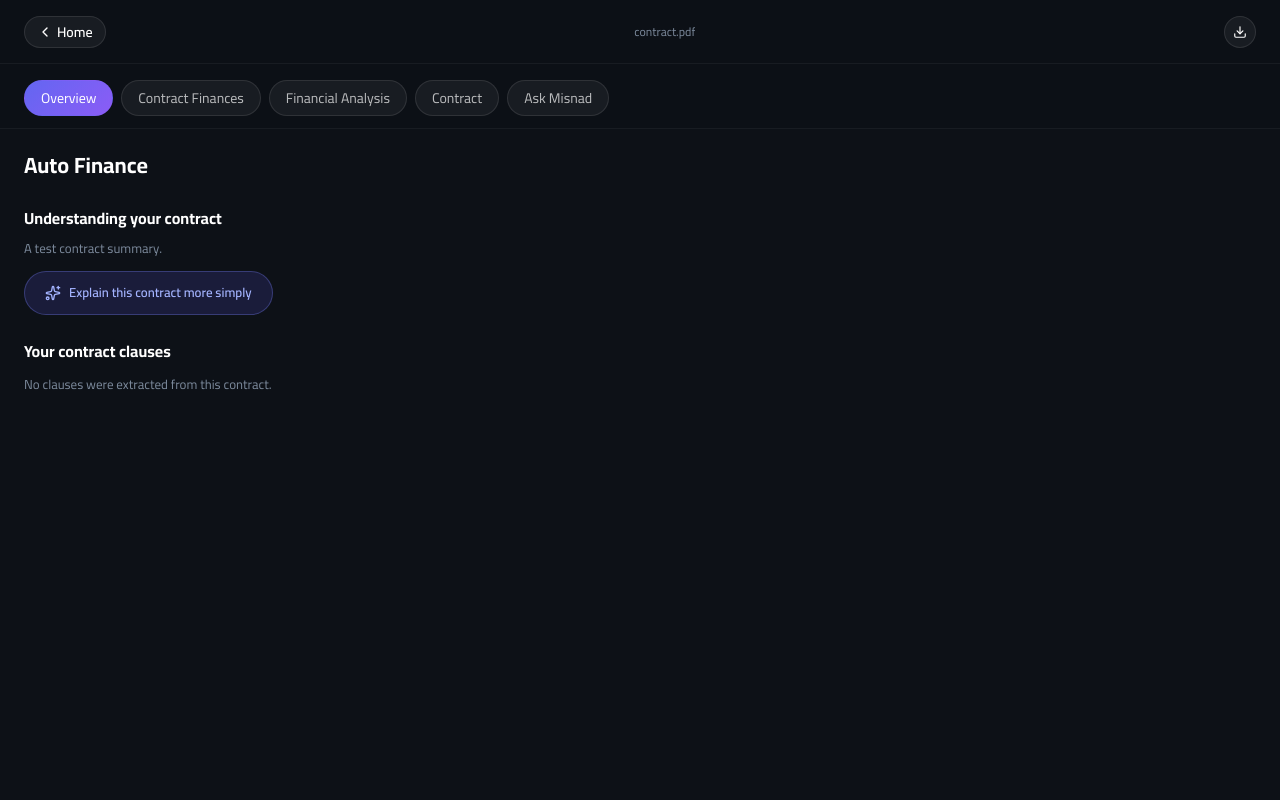
Personalized Analysis session state (survives tab switches, resets on new analysis) › shows a retry action on failure (including a timeout), and retrying can succeed
Click the tab with test id "tab-trigger-financialAnalysis" at point(338, 98), box 269,80 -> 407,116
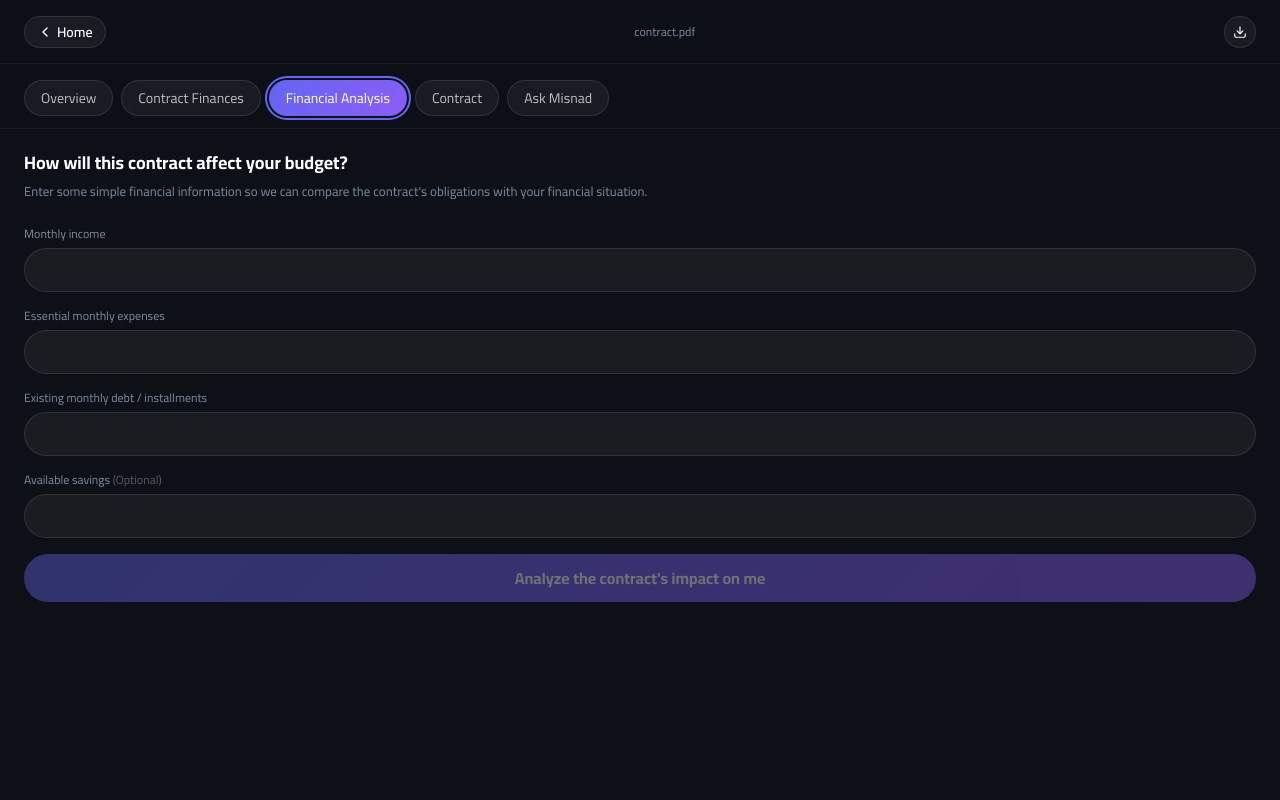
Type "10000" into the number field with test id "input-monthly-income" at point(640, 270), box 24,248 -> 1256,292
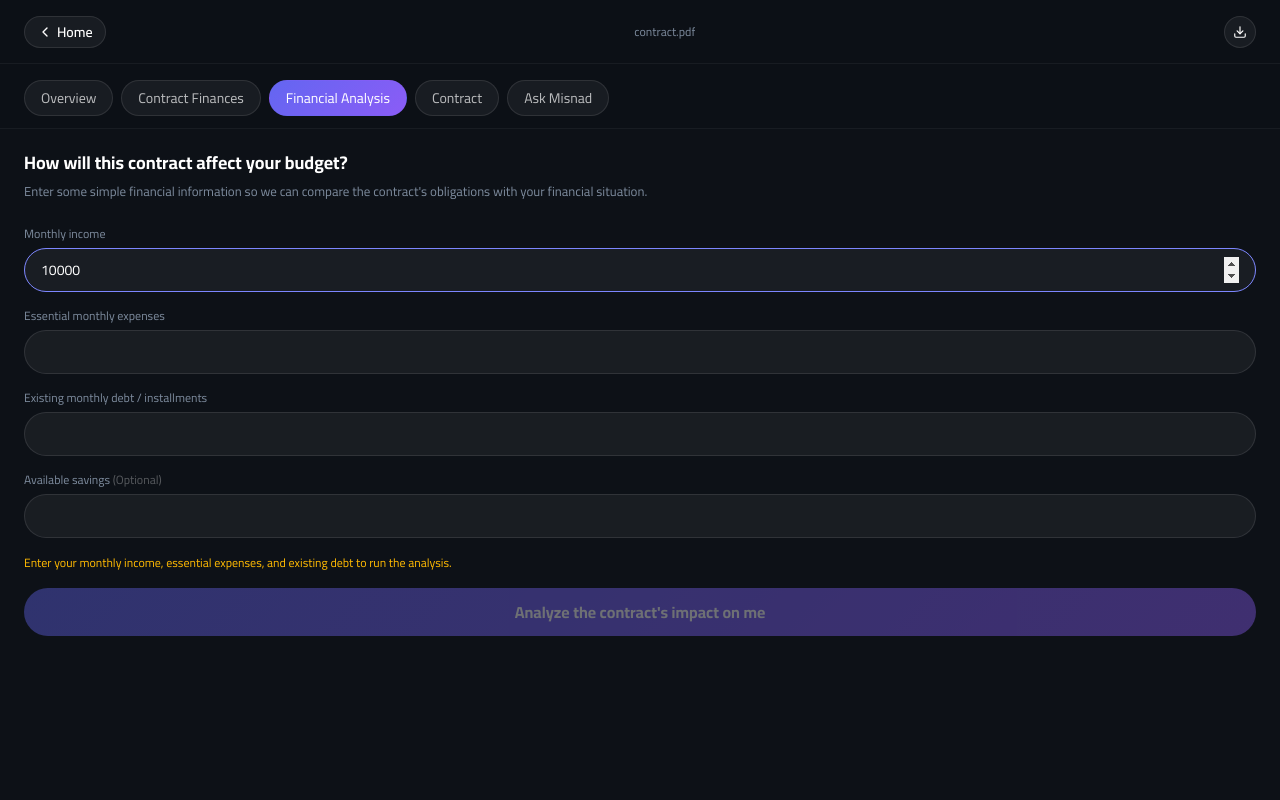
Type "3000" into the number field with test id "input-essential-expenses" at point(640, 352), box 24,330 -> 1256,374
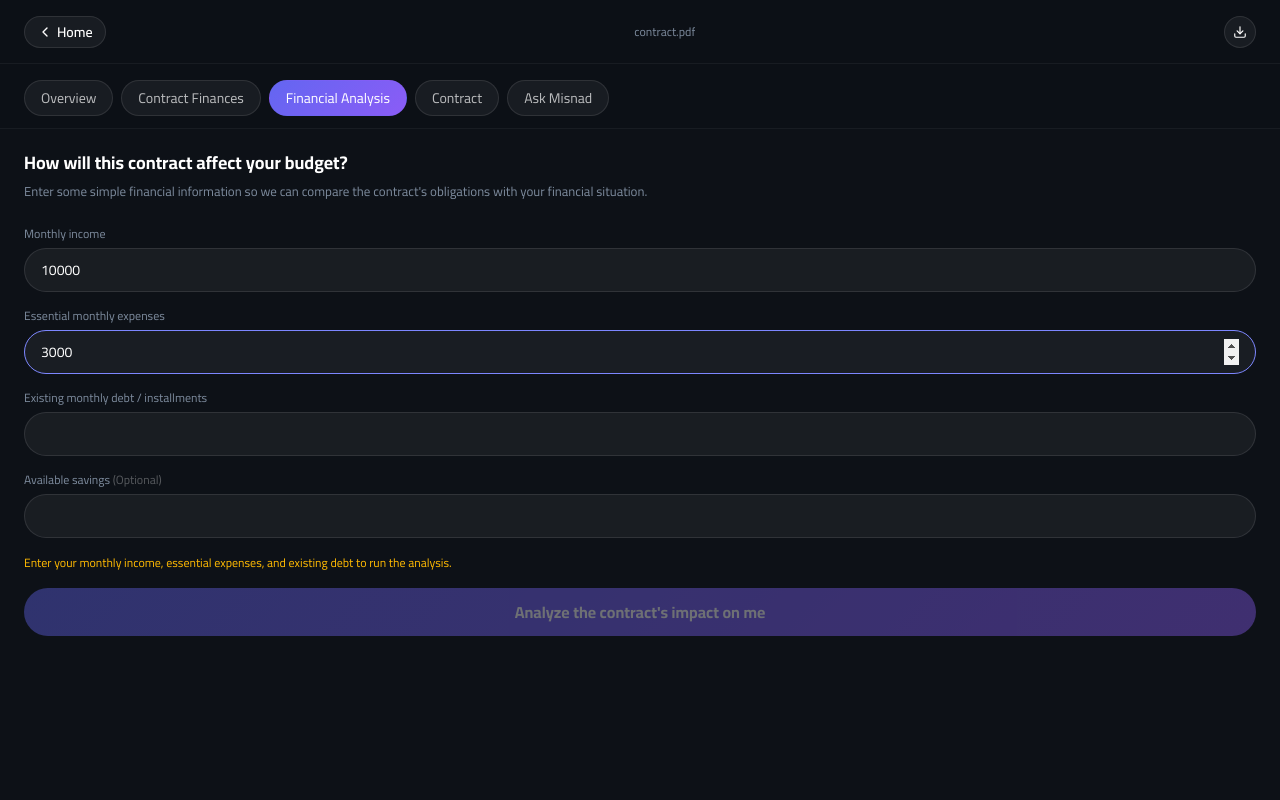
Type "500" into the number field with test id "input-existing-debt" at point(640, 434), box 24,412 -> 1256,456
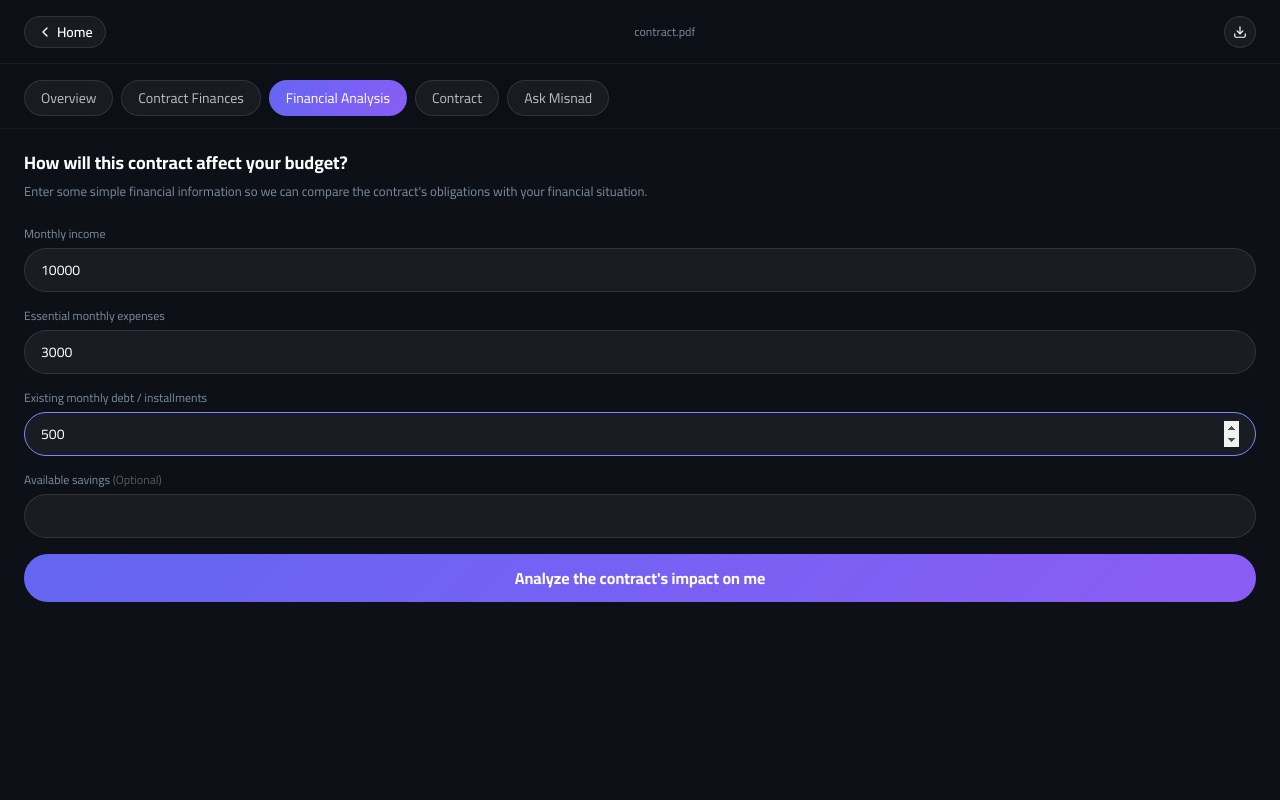
Click the button with test id "button-submit-budget-impact" at point(640, 578), box 24,554 -> 1256,602
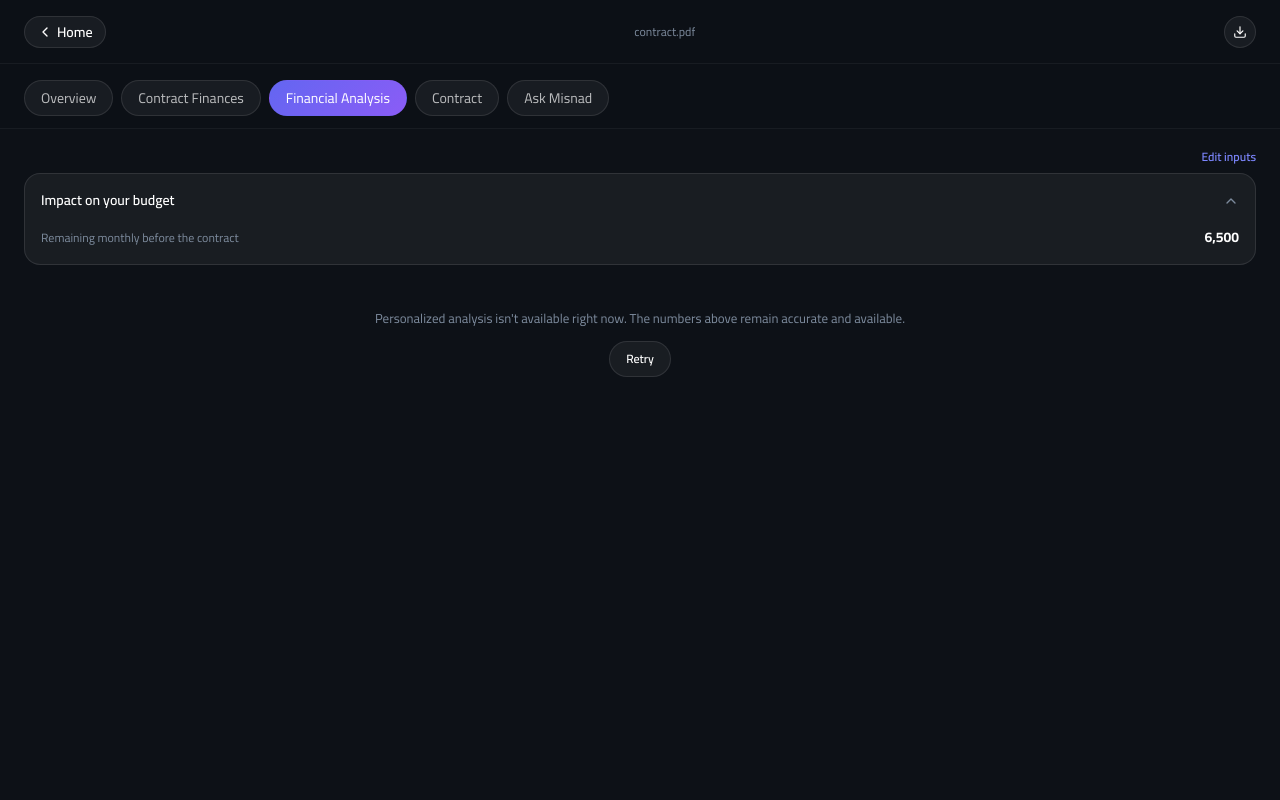
Expected: the element with test id "personalized-analysis-unavailable" is shown, 375,306 -> 905,376
Expected: the element with test id "financial-analysis-budget-impact" is shown, 24,173 -> 1256,265
Click the button with test id "button-retry-personalized-analysis" at point(640, 358), box 609,340 -> 671,376
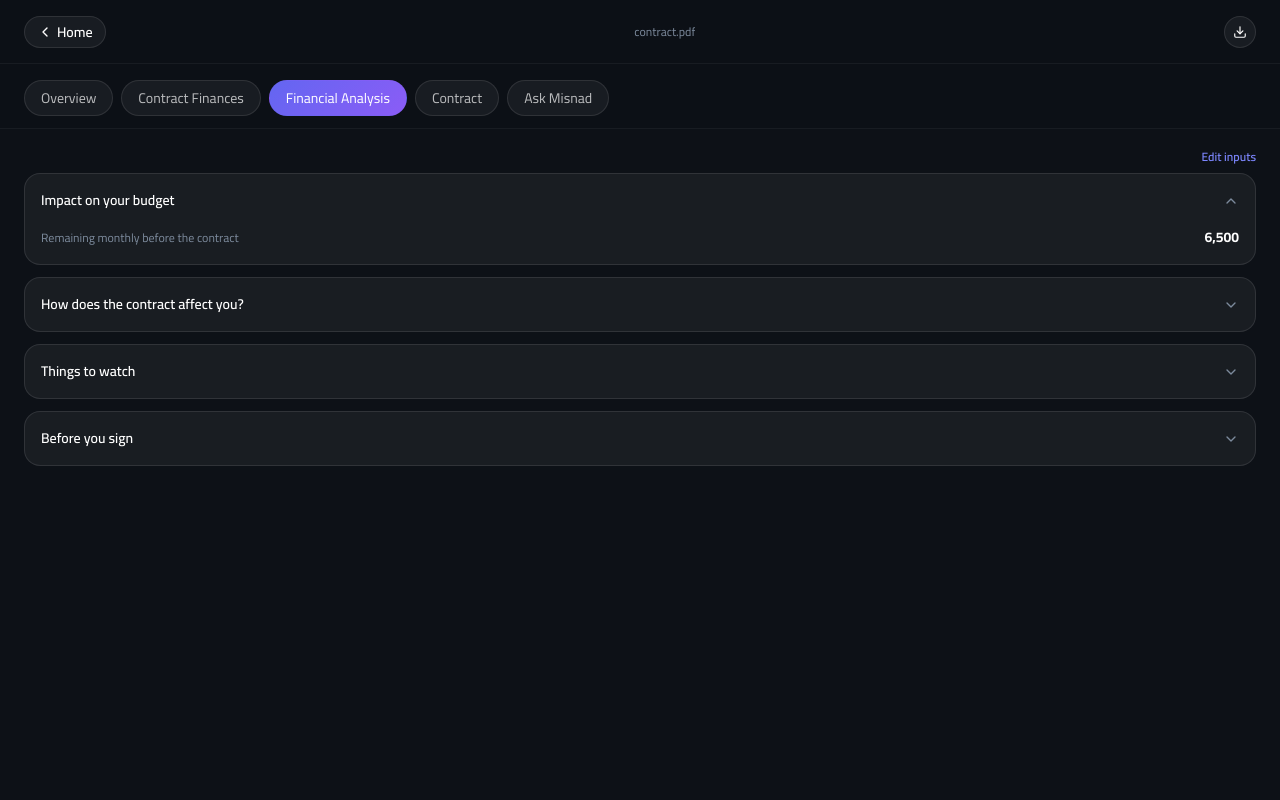
Expected: the element with test id "personalized-analysis-personalImpact" is shown, 24,277 -> 1256,332
